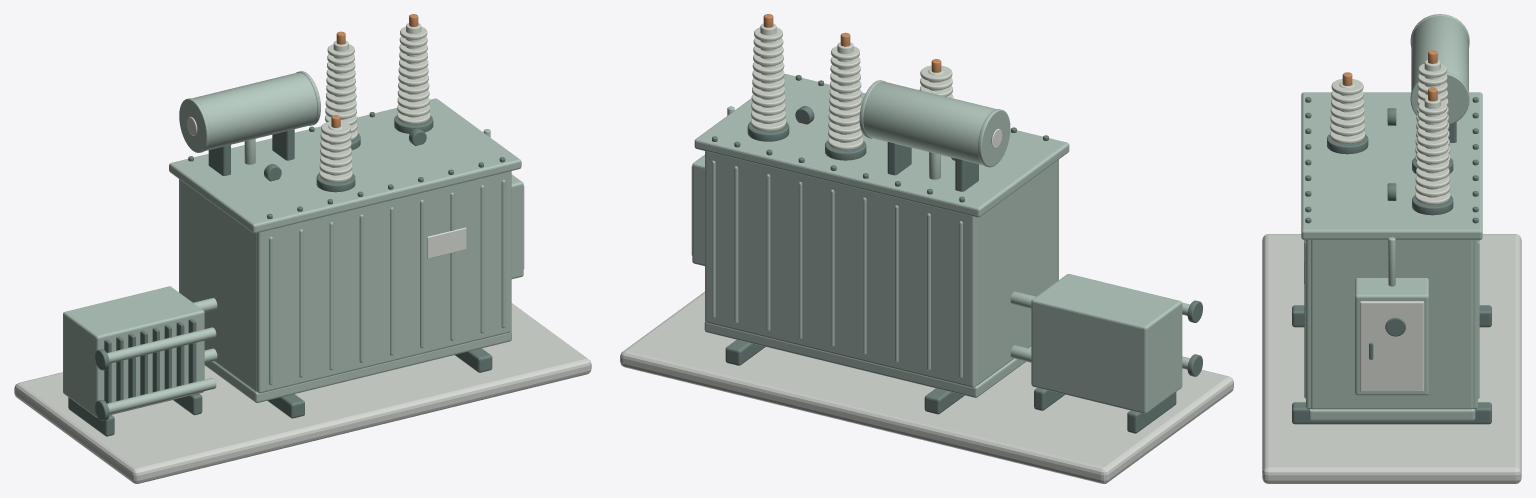
File: transformer.glb
3 views of the same model, side by side, from view 1: azimuth 30°, elevation 25°; view 2: azimuth 150°, elevation 25°; view 3: azimuth 270°, elevation 25° (orthographic). The views are drawn at different scales.
Visible parts, largest first — view 1: Front removable panel, Concrete base, Removable tank lid, End tank wall, Cooler housing, Conservator vessel, Tank floor, Water header.001, Tap drive cabinet, Water header, Vessel end cap, Asset plate (+7 smaller); view 2: Rear tank wall, Concrete base, Cooler housing, Removable tank lid, End tank wall, Conservator vessel, Tank floor, Tap drive cabinet, Vessel end cap, Tank stiffener.007, Tank stiffener.009, Tank stiffener.011 (+10 smaller); view 3: Concrete base, Removable tank lid, End tank wall.001, Tap drive door, Tap drive cabinet, Conservator vessel, Tank floor, Tank skid.001, Vessel end cap.001, Front removable panel, Rear tank wall, Tank skid (+14 smaller).
Boxes of the visible parts, x1=… form: Front removable panel: x1=256, y1=171, x2=511, y2=393; Concrete base: x1=14, y1=303, x2=591, y2=483; Removable tank lid: x1=169, y1=98, x2=521, y2=233; End tank wall: x1=180, y1=180, x2=256, y2=391; Cooler housing: x1=63, y1=286, x2=204, y2=417; Conservator vessel: x1=192, y1=72, x2=317, y2=150; Tank floor: x1=204, y1=331, x2=511, y2=402; Water header.001: x1=107, y1=327, x2=216, y2=363; Tap drive cabinet: x1=511, y1=174, x2=523, y2=278; Water header: x1=107, y1=378, x2=216, y2=413; Vessel end cap: x1=179, y1=98, x2=209, y2=152; Asset plate: x1=427, y1=227, x2=466, y2=258; Rear tank wall: x1=705, y1=151, x2=976, y2=387; Concrete base: x1=620, y1=291, x2=1233, y2=483; Cooler housing: x1=1031, y1=274, x2=1182, y2=413; Removable tank lid: x1=694, y1=74, x2=1069, y2=217; End tank wall: x1=976, y1=161, x2=1057, y2=385; Conservator vessel: x1=863, y1=81, x2=996, y2=164; Tank floor: x1=704, y1=321, x2=1031, y2=397; Tap drive cabinet: x1=692, y1=155, x2=704, y2=266; Vessel end cap: x1=977, y1=109, x2=1010, y2=167; Tank stiffener.007: x1=862, y1=197, x2=866, y2=355; Tank stiffener.009: x1=830, y1=189, x2=834, y2=347; Tank stiffener.011: x1=798, y1=182, x2=802, y2=339; Concrete base: x1=1262, y1=234, x2=1521, y2=483; Removable tank lid: x1=1301, y1=92, x2=1482, y2=239; End tank wall.001: x1=1311, y1=240, x2=1472, y2=409; Tap drive door: x1=1359, y1=301, x2=1424, y2=391; Tap drive cabinet: x1=1355, y1=278, x2=1428, y2=395; Conservator vessel: x1=1411, y1=16, x2=1468, y2=91; Tank floor: x1=1308, y1=409, x2=1475, y2=420; Tank skid.001: x1=1292, y1=402, x2=1491, y2=424; Vessel end cap.001: x1=1410, y1=72, x2=1469, y2=124; Front removable panel: x1=1306, y1=240, x2=1311, y2=409; Rear tank wall: x1=1472, y1=240, x2=1477, y2=409; Tank skid: x1=1292, y1=305, x2=1491, y2=327.
Bounding box in the file's own units: 7.6 × 5.14 × 3.5.
